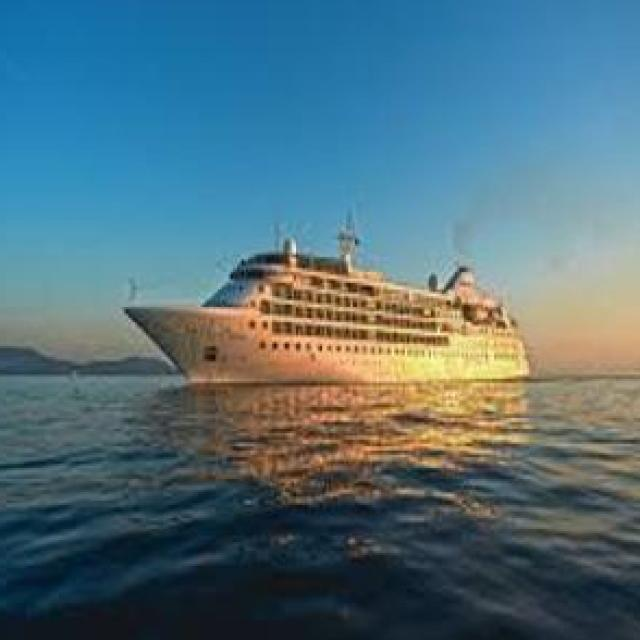passenger ship: (132, 215, 532, 387)
